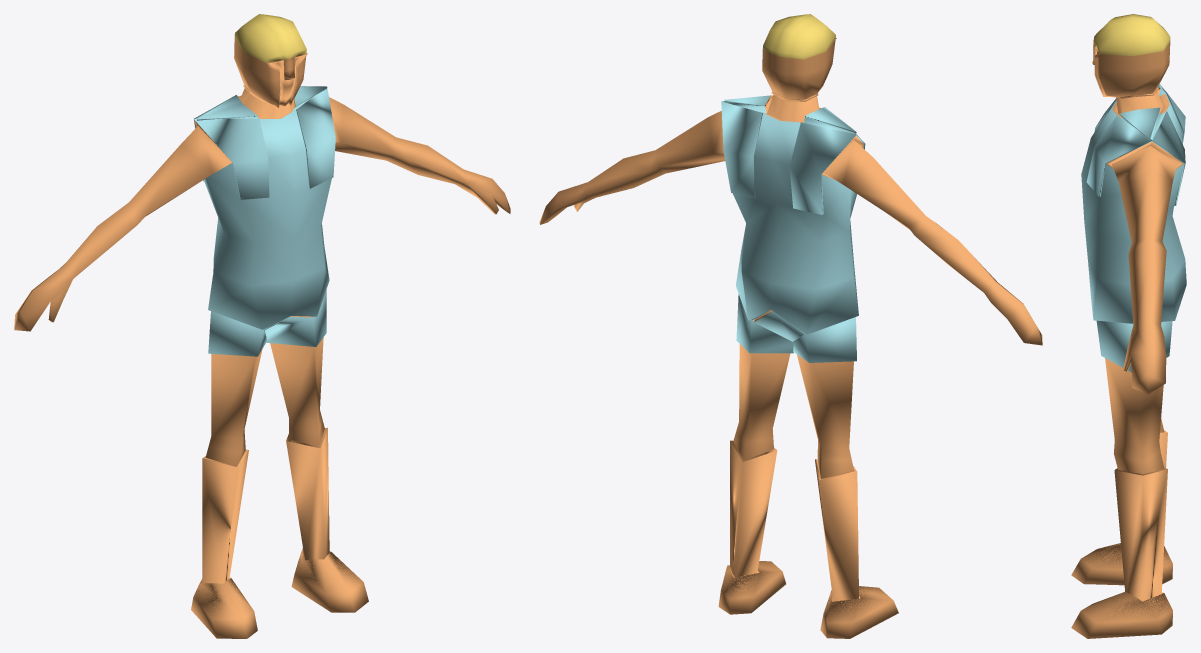
File: Campesino.fbx
3 renders of one model, left to right at view 1: azimuth 30°, elevation 25°; view 2: azimuth 150°, elevation 25°; view 3: azimuth 270°, elevation 25°, orthographic.
Parts seen in each view (by area): view 1: HumanoidBase_NotOverlapping; view 2: HumanoidBase_NotOverlapping; view 3: HumanoidBase_NotOverlapping.
Boxes of the visible parts, box(x1,y1,x2,y2) form: HumanoidBase_NotOverlapping: box(14, 14, 510, 638); HumanoidBase_NotOverlapping: box(539, 14, 1042, 638); HumanoidBase_NotOverlapping: box(1071, 14, 1186, 638).
Size of the model in its own units: 1611 by 1817 by 325.
1 material, 1 textured.
